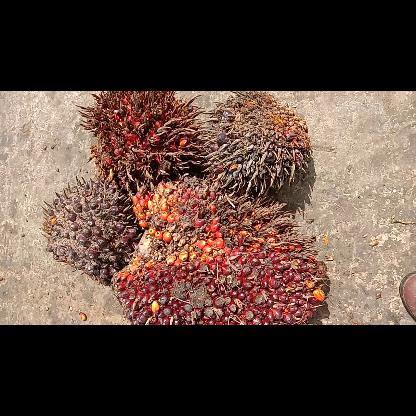Kurang masak: (41, 176, 143, 286)
TBS abnormal: (204, 91, 312, 195)
TBS masak: (112, 176, 330, 324)
Terlalu masak: (78, 91, 200, 181)
